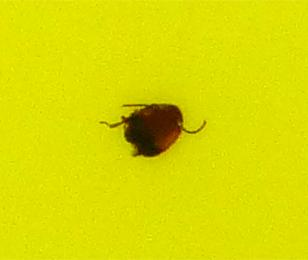Coleoptera: (100, 100, 208, 160)
